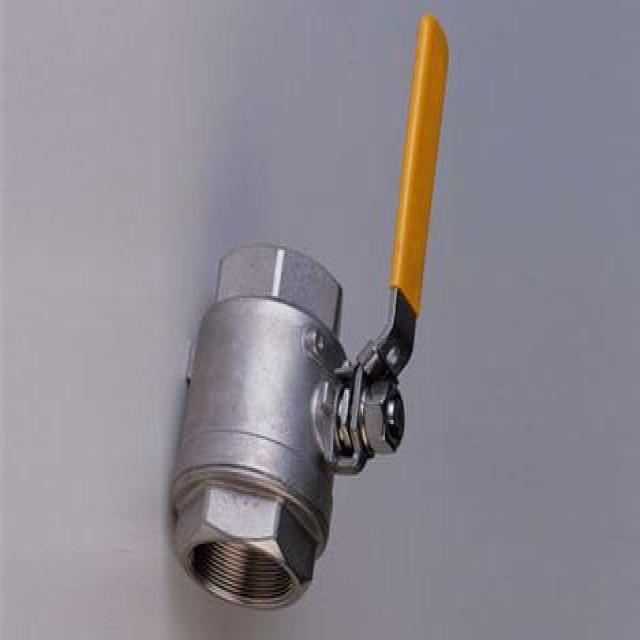opened_valve: (168, 14, 452, 611)
